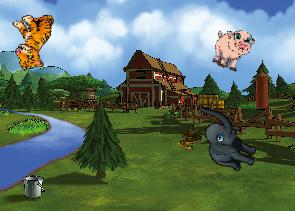elephant: (184, 102, 266, 175)
pig: (207, 23, 257, 75)
tiger: (7, 9, 62, 71)
